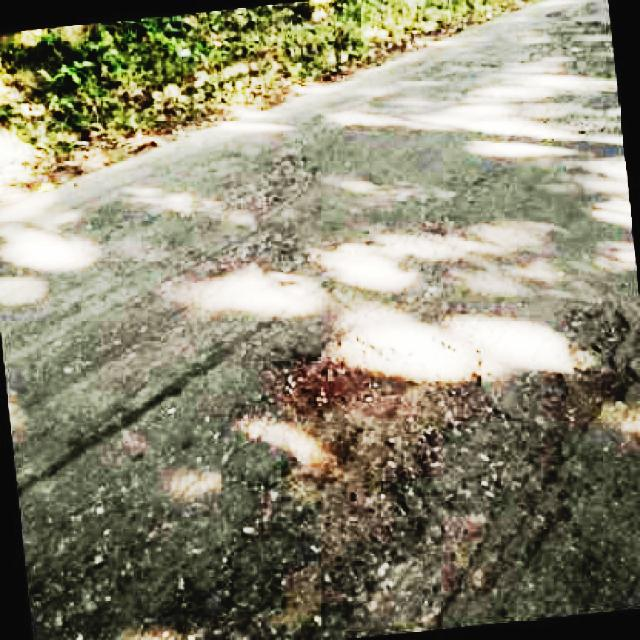pothole: (243, 319, 514, 546)
